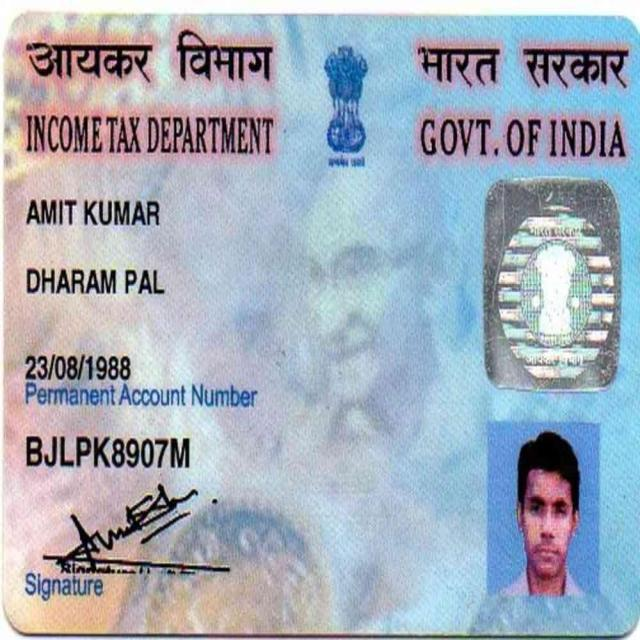pan_card: (5, 7, 640, 640)
